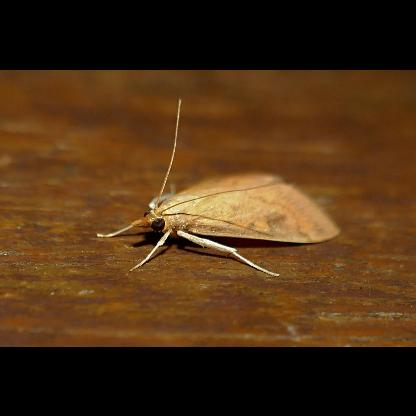Asian Corn Borer Moth: (93, 94, 343, 278)
